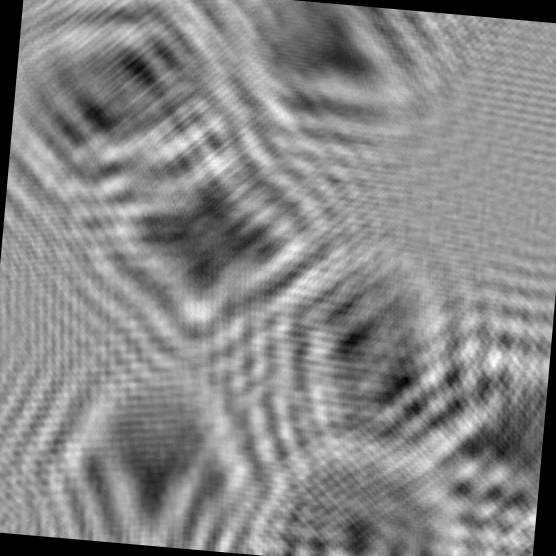U: (224, 406, 486, 556)
V: (15, 323, 286, 556), (355, 313, 552, 556), (193, 0, 448, 178)
X: (48, 96, 360, 368)
Z: (242, 228, 490, 486), (5, 0, 235, 218)
